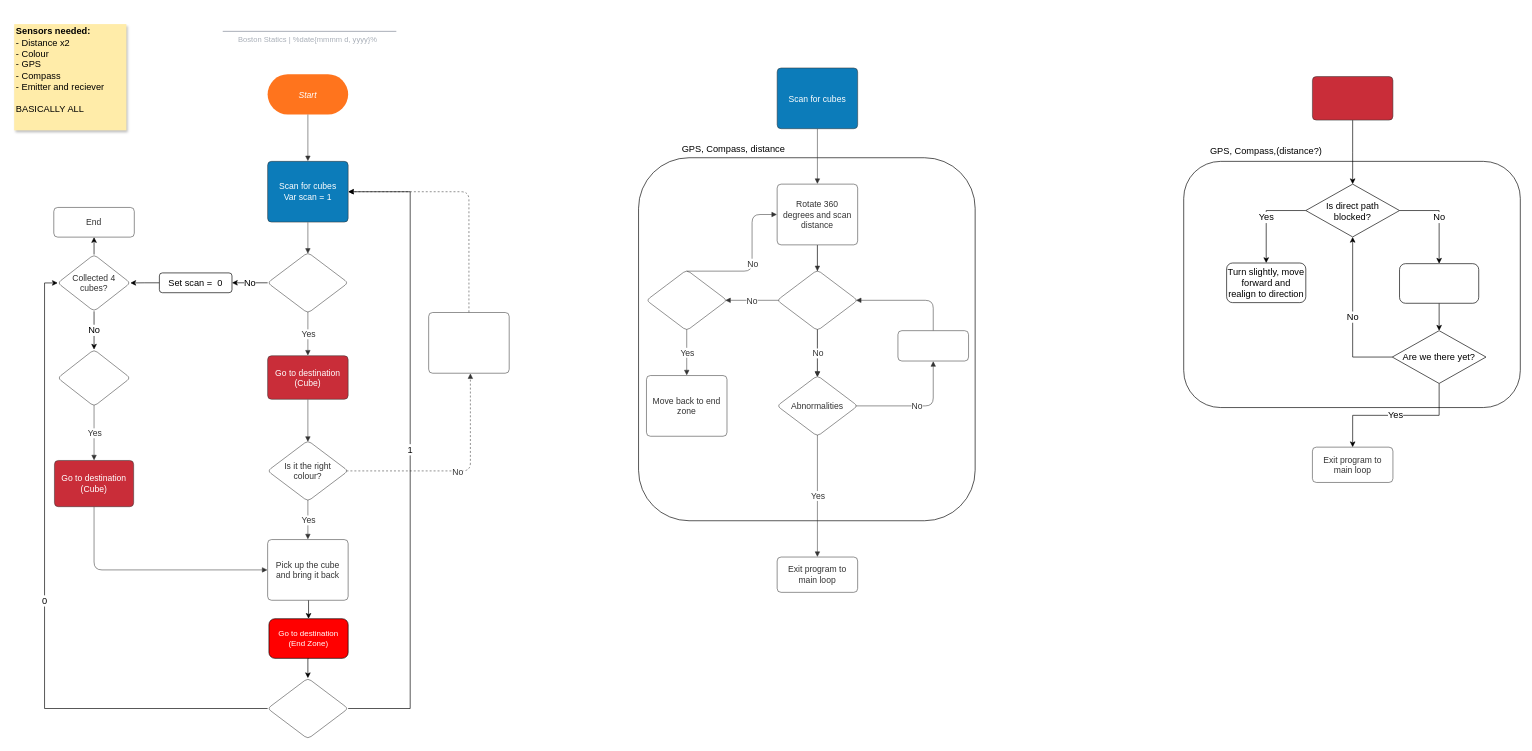
Image size: 1532x751. Some labels were removed from this diagram. Each missing label, with the centre of its shape:
"Can you see a cube?" goes at point 307,282.
"Collected 4 blocks?" goes at point 686,300.
"completed 360?" goes at point 817,300.
"Continue process" goes at point 932,345.
"Go straight in destination direction" goes at point 1439,283.
"Go to destination (Cube/End Zone)" goes at point 1352,98.
"Have you heard of any cubes from other bot" goes at point 93,377.
"IDP Flowchart" goes at point 307,21.
"Is scan 1 or 0?" goes at point 307,708.
"Send cube location to other robot" goes at point 468,342.
